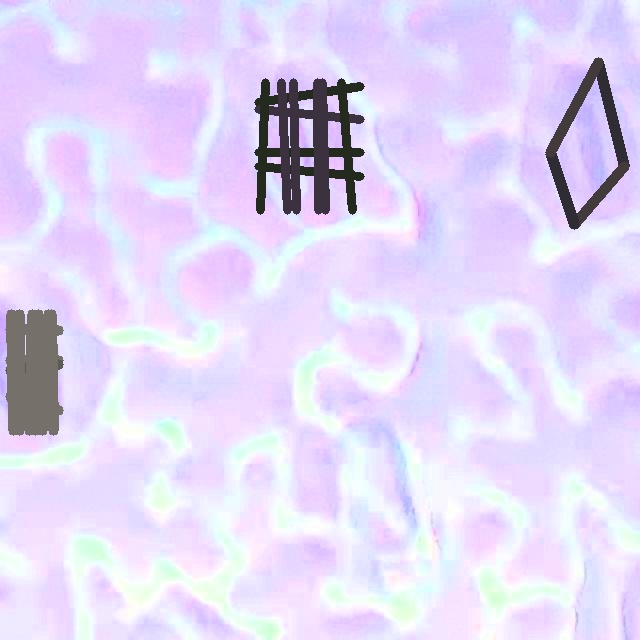open: (254, 78, 364, 214), (546, 57, 629, 228), (6, 309, 62, 434)
